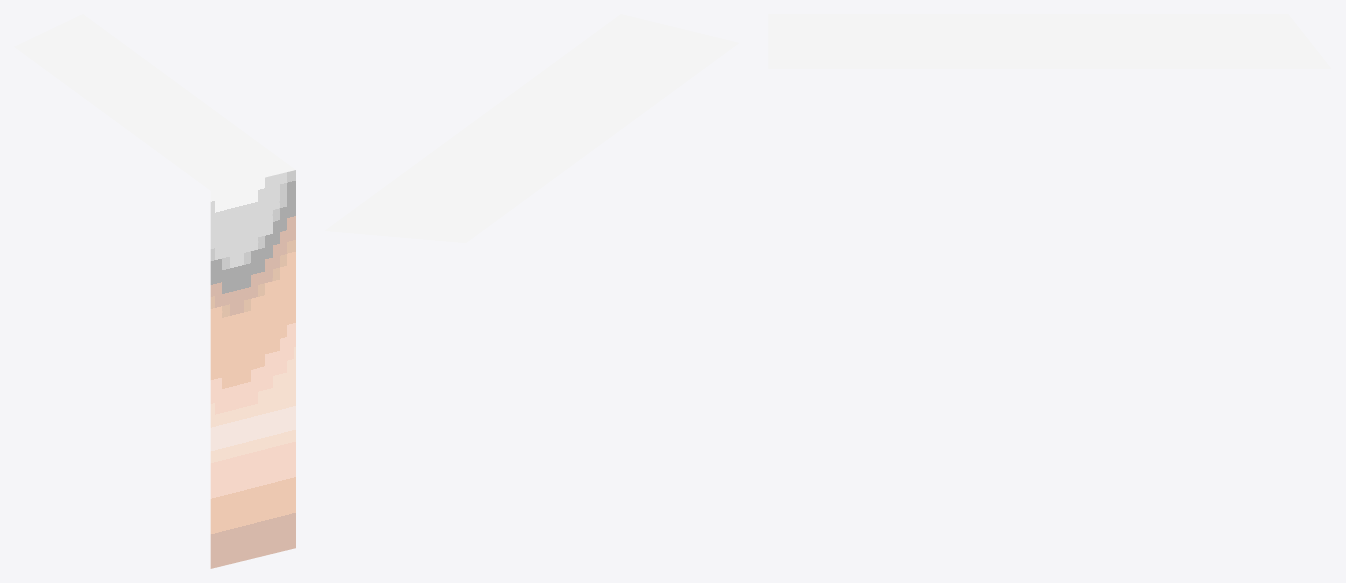
3 renders of one model, left to right at view 1: azimuth 30°, elevation 25°; view 2: azimuth 150°, elevation 25°; view 3: azimuth 270°, elevation 25°, orthographic. The views are drawn at different scales.
Bounding box in the file's own units: 0.3758 × 1.59 × 1.63.
1 material, 1 textured.
